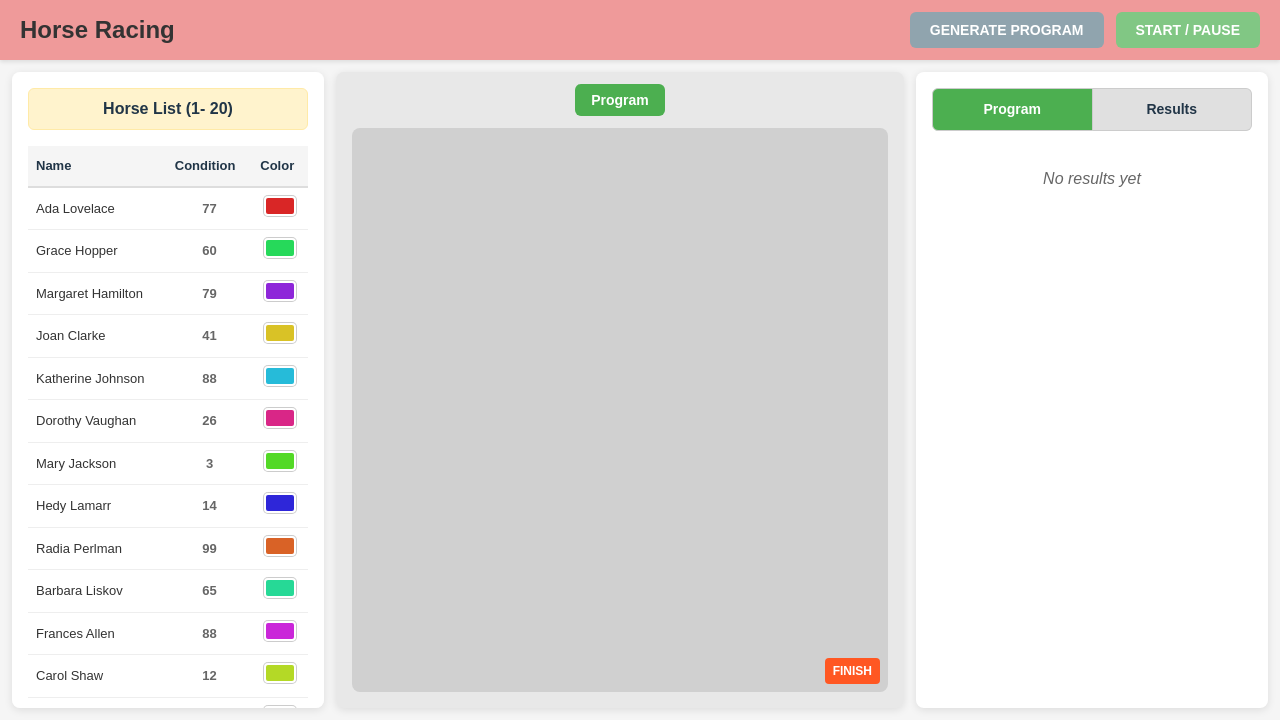
it: Horse Racing Game › should show horse animations during race
# Generate and start race
Click the button with class "btn-generate".
click(1007, 30)  # box [910,12,1104,48]
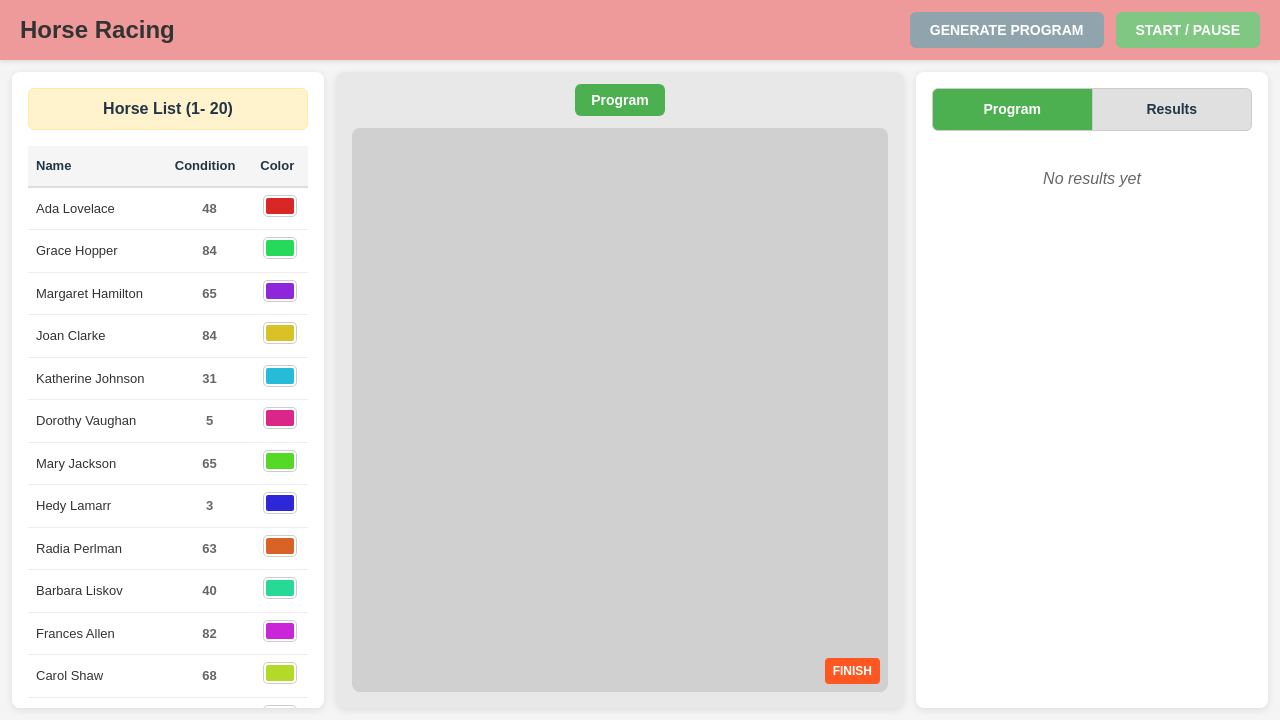
Click the button with class "btn-start".
click(1189, 30)  # box [1116,12,1261,48]
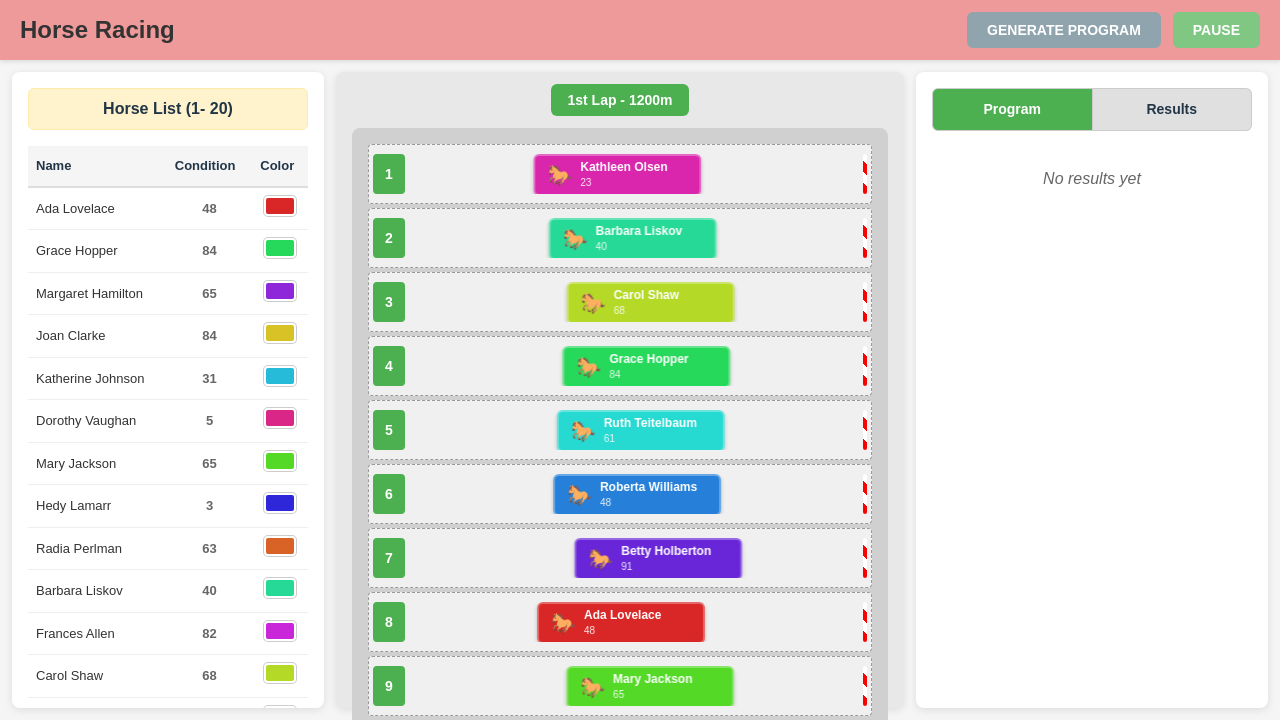
Now the element with class "horse" showing "🐎 Kathleen Olsen 23" is shown, box [529,154,697,194]
Now the icon with class "horse-icon" next to "Kathleen Olsen" reads "🐎", box [543,164,568,186]
Now the text "Kathleen Olsen" is shown, box [576,160,664,172]
